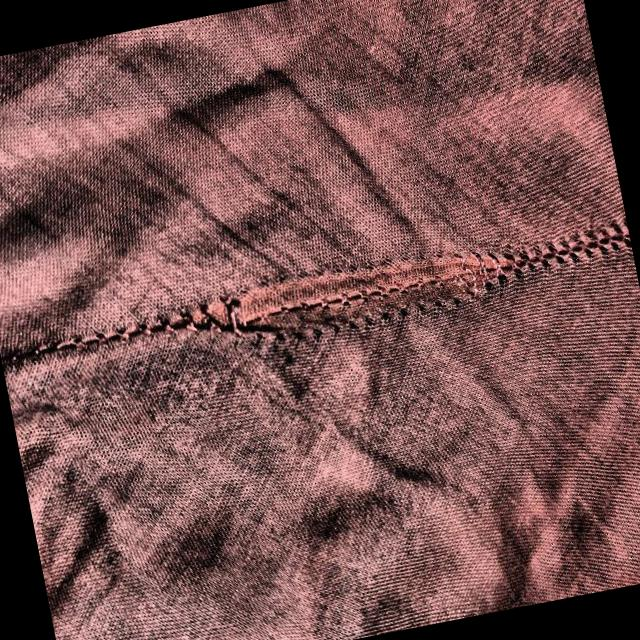gray stitch: (179, 218, 509, 374)
